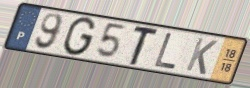5: (94, 22, 128, 61)
9: (34, 13, 64, 51)
G: (60, 16, 98, 58)
K: (183, 36, 220, 77)
L: (151, 32, 178, 72)
T: (127, 26, 162, 67)
